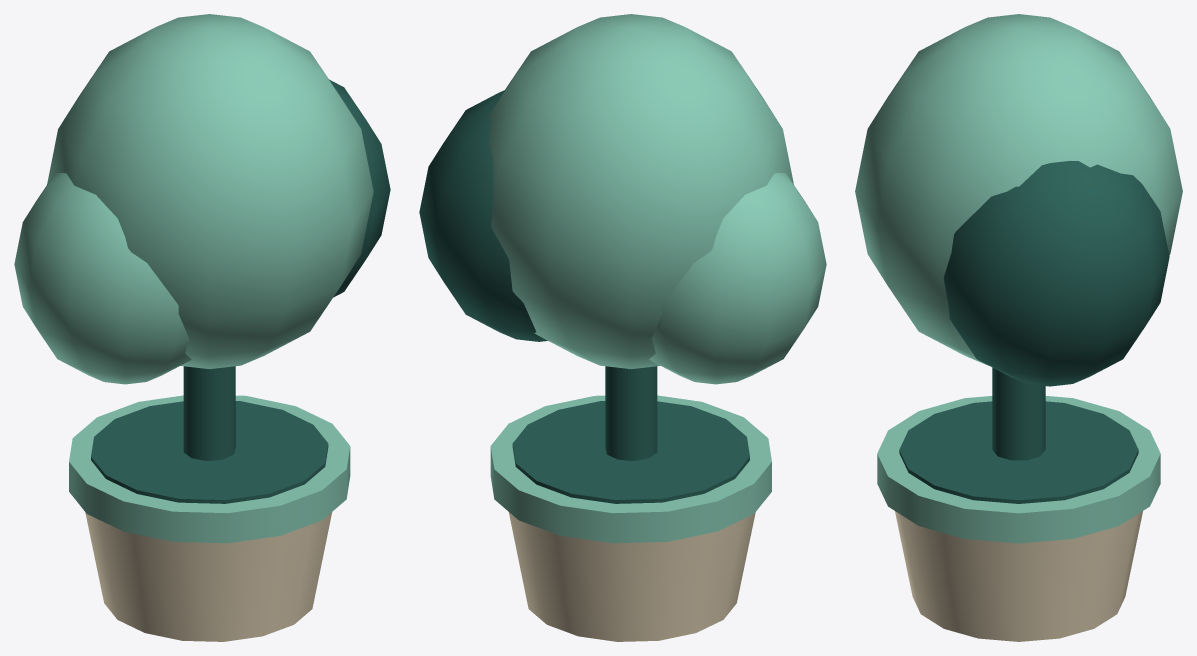
The model's file is athlete_topiary.glb.
3 renders of one model, left to right at view 1: azimuth 30°, elevation 25°; view 2: azimuth 150°, elevation 25°; view 3: azimuth 270°, elevation 25°, orthographic.
Parts seen in each view (by area): view 1: athlete_topiary__mint, athlete_topiary__ink, athlete_topiary__cream; view 2: athlete_topiary__mint, athlete_topiary__ink, athlete_topiary__cream; view 3: athlete_topiary__mint, athlete_topiary__ink, athlete_topiary__cream.
Part boxes in pixels (<box>): athlete_topiary__mint: <box>14,14,373,543</box>; athlete_topiary__ink: <box>91,79,390,503</box>; athlete_topiary__cream: <box>85,512,332,641</box>; athlete_topiary__mint: <box>489,14,826,543</box>; athlete_topiary__ink: <box>419,90,749,503</box>; athlete_topiary__cream: <box>509,512,755,641</box>; athlete_topiary__mint: <box>855,14,1182,543</box>; athlete_topiary__ink: <box>899,160,1169,503</box>; athlete_topiary__cream: <box>895,511,1142,641</box>.
Bounding box in the file's own units: 0.94 × 1.42 × 0.74.
